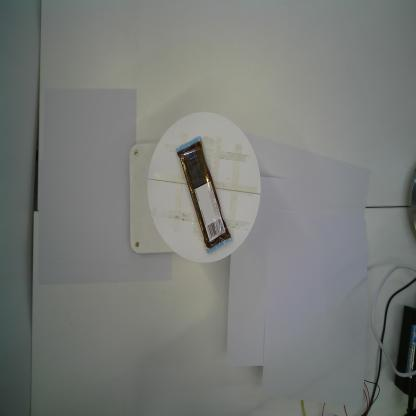Chocolate: (175, 135, 234, 259)
